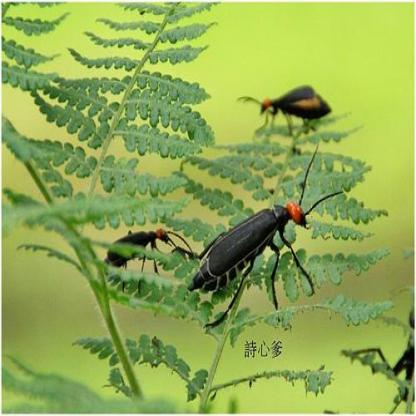beetle: (192, 187, 337, 319), (260, 77, 340, 140), (107, 229, 192, 284)
